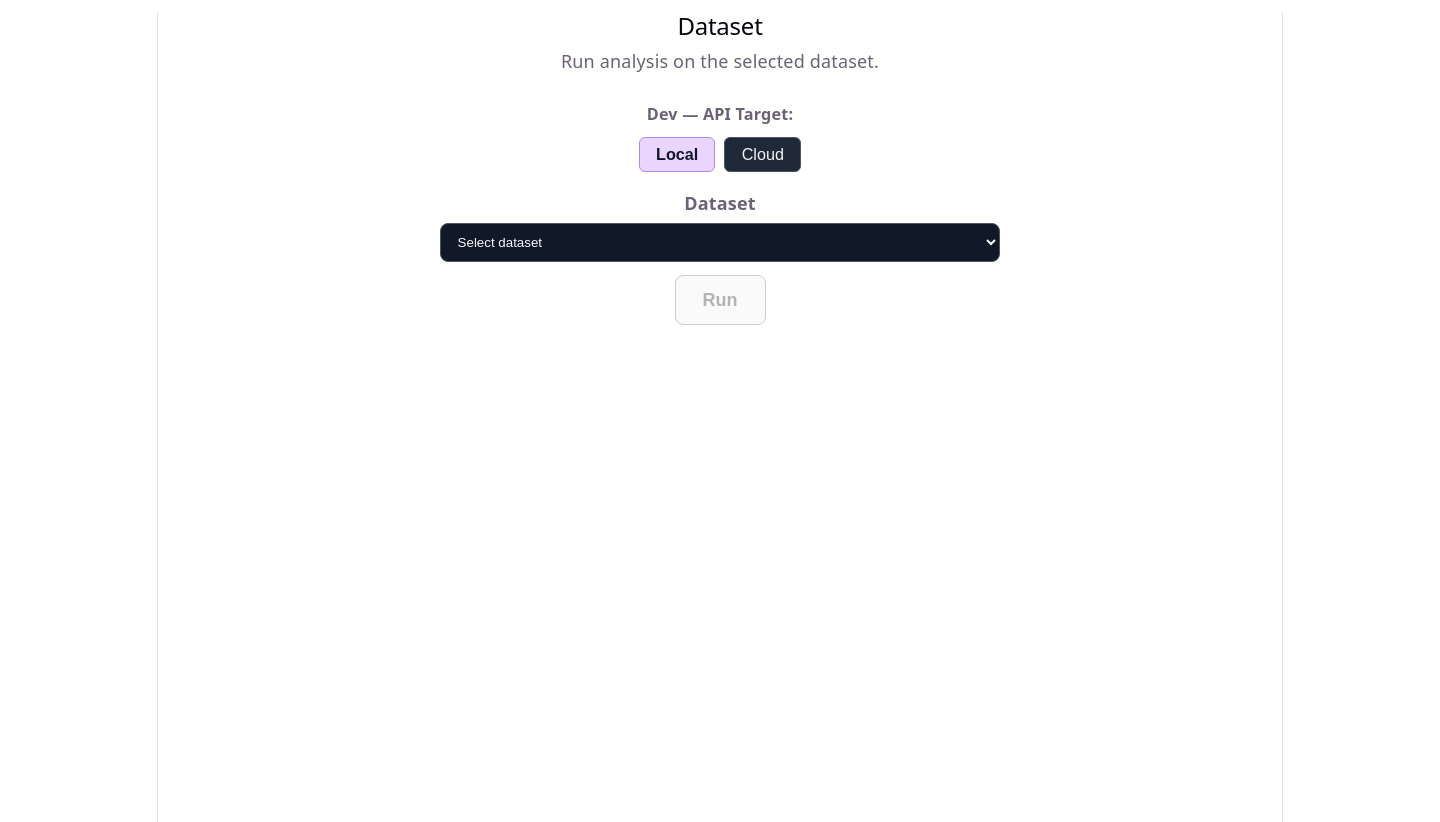
DatasetTab › handles API error response
Select "Sales CSV" in the dropdown labelled "Dataset" at (720, 243), box [440,223,1000,262]
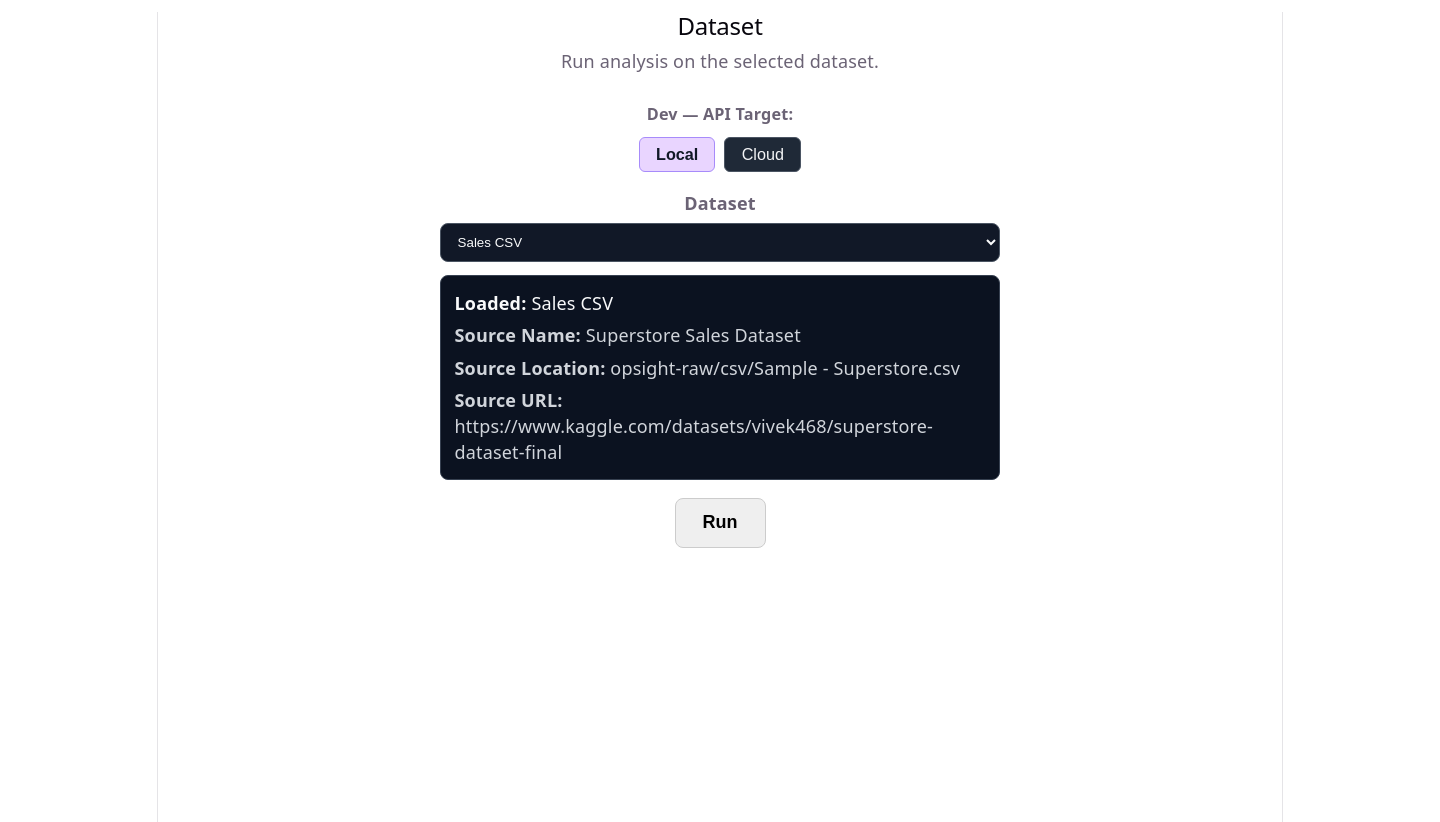
Click the button "Run" at (720, 523), box [674,498,766,548]
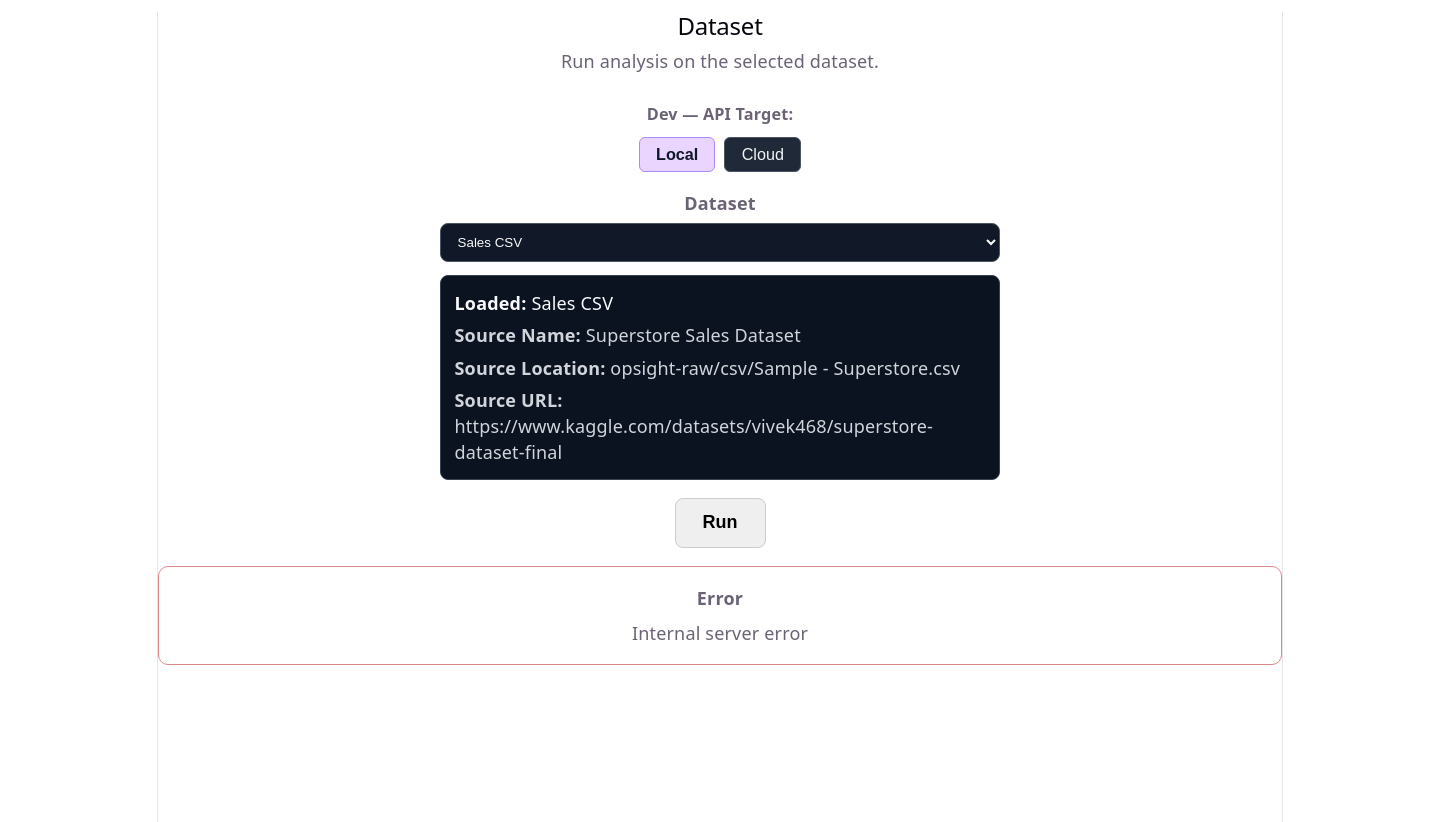
Now the text "Internal server error" is shown, box [632,621,808,645]
